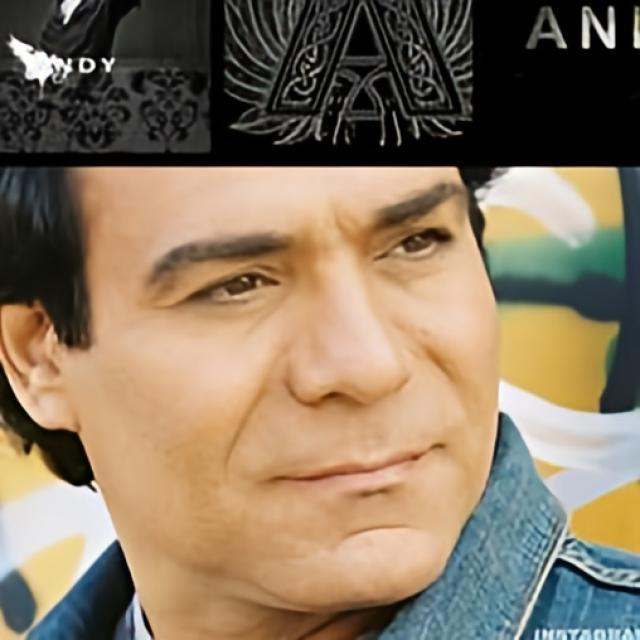content: (82, 169, 495, 605)
